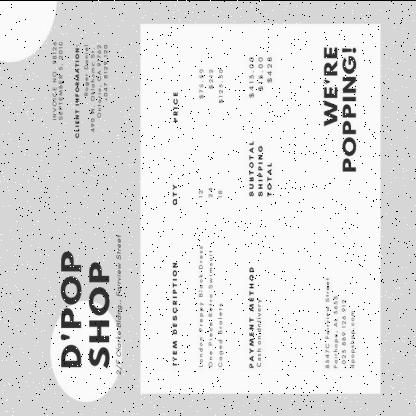Paragraph: (57, 228, 124, 376), (316, 40, 361, 178), (245, 52, 276, 200), (318, 273, 359, 373), (72, 40, 110, 140), (246, 263, 264, 370), (49, 38, 65, 123)
Table: (168, 64, 227, 372)
